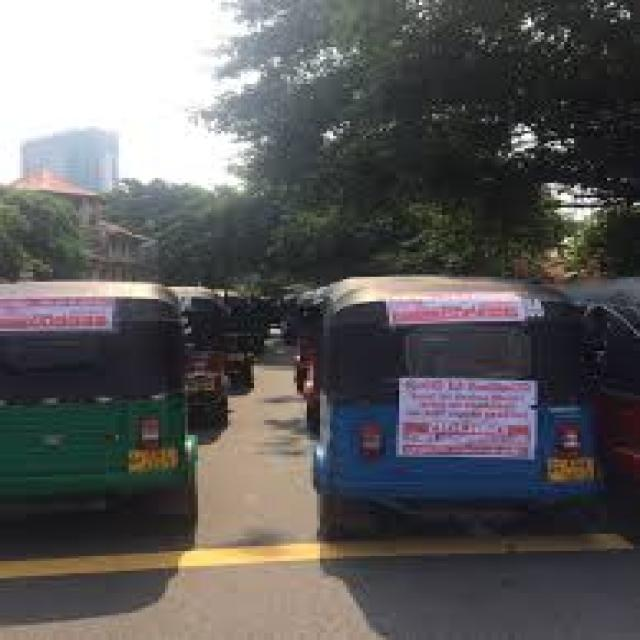three wheeler: (223, 392, 421, 640), (0, 399, 135, 640), (119, 406, 158, 626), (202, 409, 226, 619), (156, 413, 186, 560)
